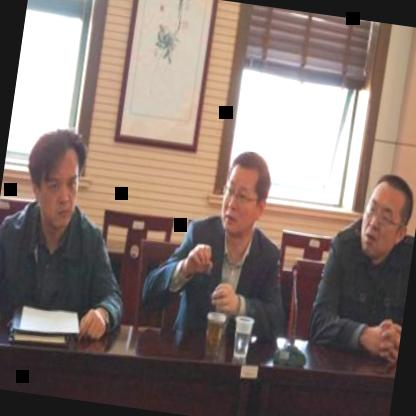head: (18, 119, 94, 235), (214, 141, 281, 246), (354, 166, 416, 260)
